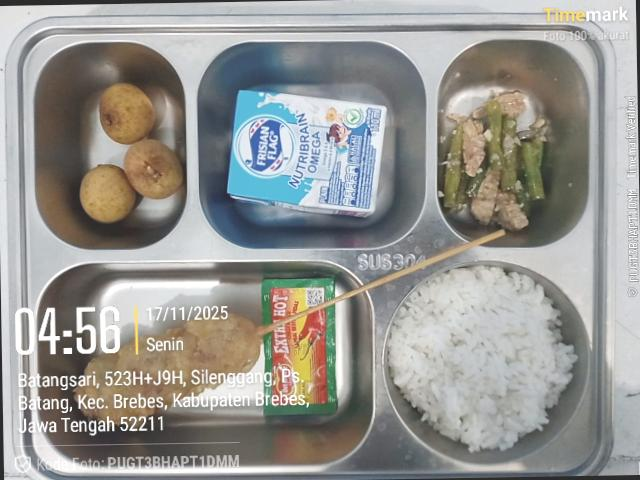ayam: (75, 313, 261, 423)
buah: (80, 83, 183, 223)
nasi: (388, 266, 577, 451)
sayur: (522, 141, 545, 199)
susu: (227, 90, 387, 216)
tempe: (463, 118, 485, 176)
